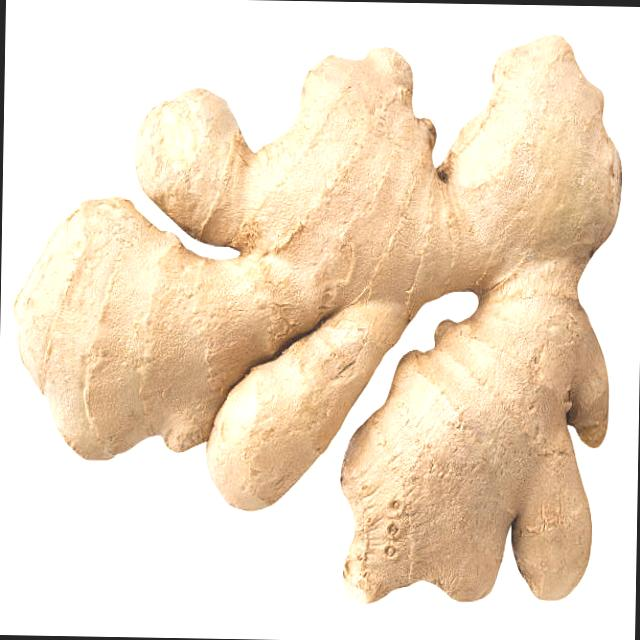ginger-root: (2, 0, 627, 616)
